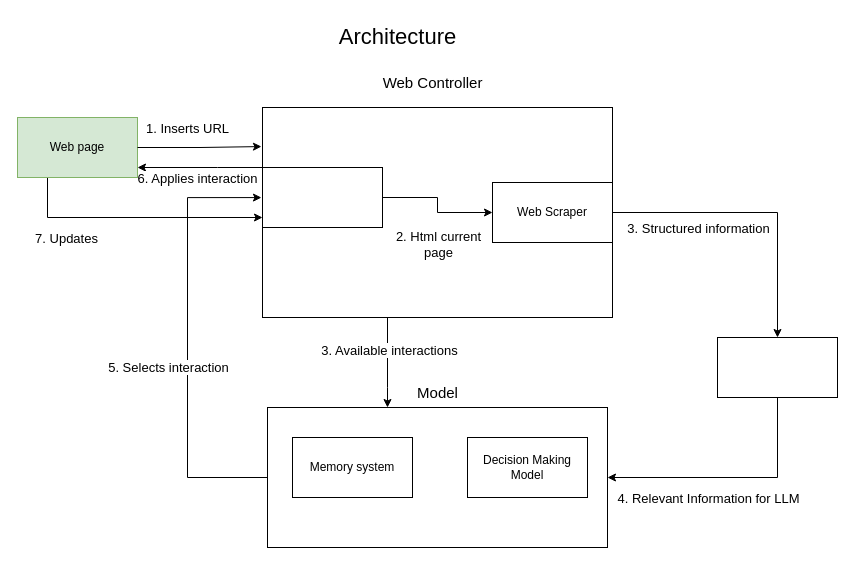
Some shapes in this 855 by 565 pixel diagram are drawn without their labels. Each missing label, with the centre of its shape:
"Parser" belongs at point (777, 367).
"Web Interaction Maker" belongs at point (322, 197).
